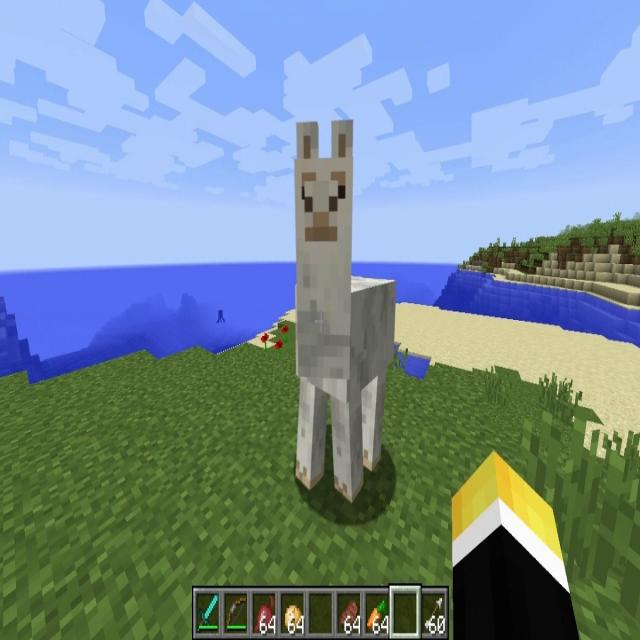Llama: (292, 118, 398, 510)
